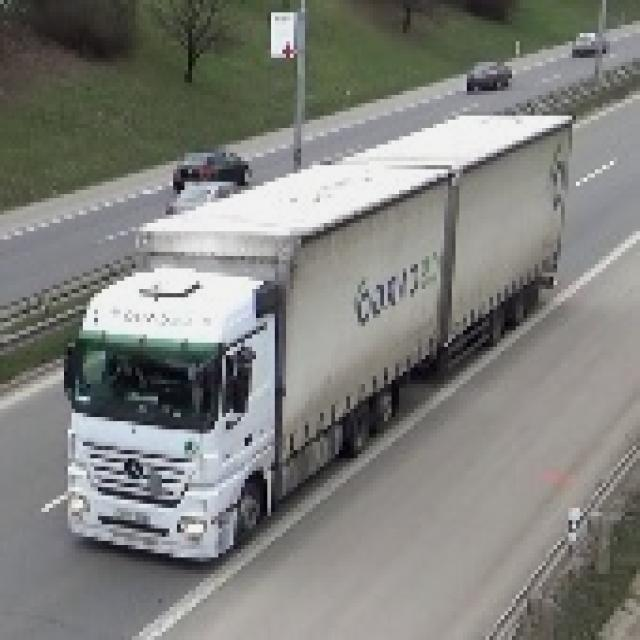SED: (177, 149, 254, 185), (468, 61, 513, 89)
TRUCK: (57, 106, 564, 558)
